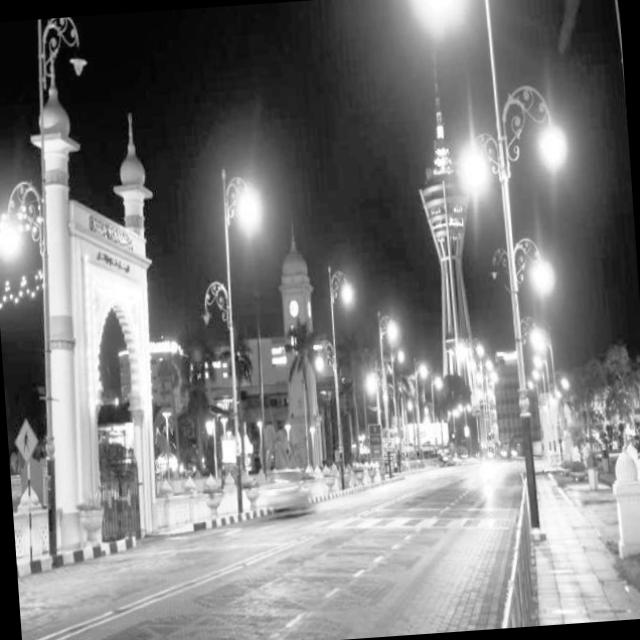Light: (423, 0, 595, 559), (188, 166, 282, 512), (0, 172, 76, 549), (307, 263, 370, 492), (360, 306, 414, 478), (528, 324, 579, 471), (405, 362, 435, 469), (484, 370, 504, 447), (457, 396, 478, 456)
